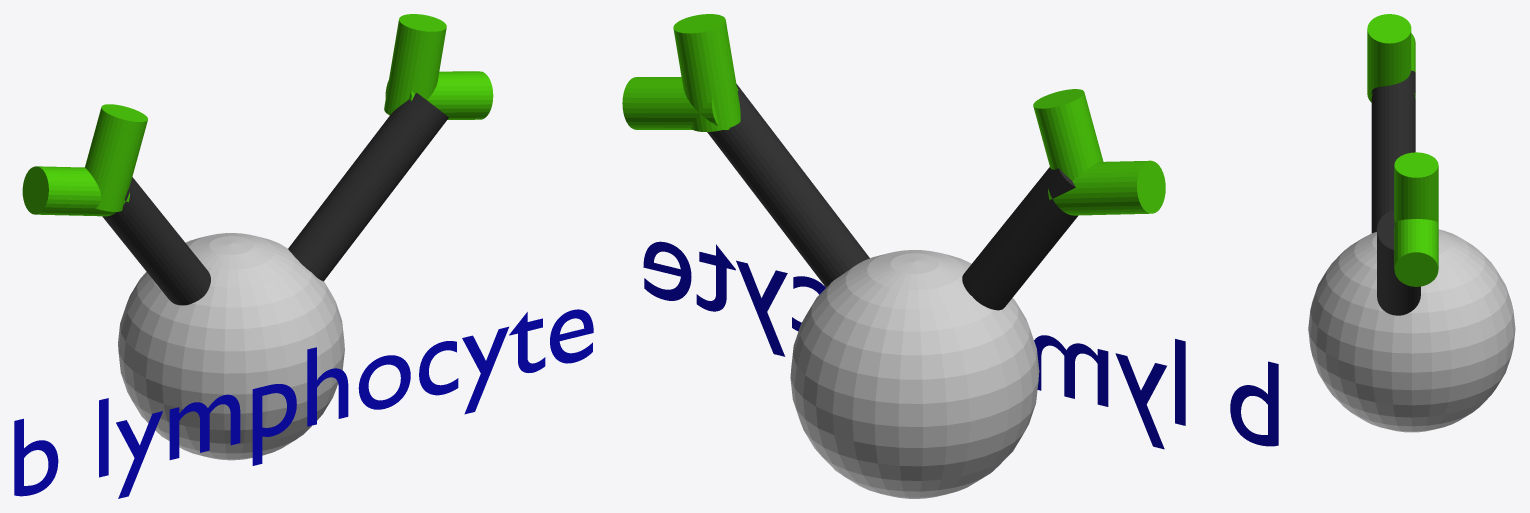
Rendered from blymph.obj.
3 views of the same model, side by side, from view 1: azimuth 30°, elevation 25°; view 2: azimuth 150°, elevation 25°; view 3: azimuth 270°, elevation 25° (orthographic). The views are drawn at different scales.
Parts seen in each view (by area): view 1: Sphere_Sphere.001, Text, Cylinder.001_Cylinder.002, Cylinder_Cylinder.001, Cylinder.003_Cylinder.004, Cylinder.005_Cylinder.006, Cylinder.002_Cylinder.003, Cylinder.004_Cylinder.005; view 2: Sphere_Sphere.001, Text, Cylinder.001_Cylinder.002, Cylinder_Cylinder.001, Cylinder.005_Cylinder.006, Cylinder.002_Cylinder.003, Cylinder.003_Cylinder.004, Cylinder.004_Cylinder.005; view 3: Sphere_Sphere.001, Cylinder_Cylinder.001, Cylinder.003_Cylinder.004, Cylinder.005_Cylinder.006, Cylinder.004_Cylinder.005, Cylinder.001_Cylinder.002.
Boxes of the visible parts, x1,y1,x2,y2 form: Sphere_Sphere.001: (118, 233, 344, 460); Text: (14, 309, 593, 498); Cylinder.001_Cylinder.002: (288, 93, 448, 281); Cylinder_Cylinder.001: (102, 177, 210, 305); Cylinder.003_Cylinder.004: (85, 104, 147, 211); Cylinder.005_Cylinder.006: (384, 14, 446, 115); Cylinder.002_Cylinder.003: (22, 166, 129, 216); Cylinder.004_Cylinder.005: (385, 71, 493, 119); Sphere_Sphere.001: (790, 250, 1039, 498); Text: (643, 241, 1278, 449); Cylinder.001_Cylinder.002: (707, 84, 869, 287); Cylinder_Cylinder.001: (962, 167, 1078, 310); Cylinder.005_Cylinder.006: (673, 14, 740, 131); Cylinder.002_Cylinder.003: (1048, 160, 1165, 215); Cylinder.003_Cylinder.004: (1033, 89, 1103, 180); Cylinder.004_Cylinder.005: (622, 77, 738, 129); Sphere_Sphere.001: (1308, 229, 1515, 432); Cylinder_Cylinder.001: (1371, 70, 1415, 233); Cylinder.003_Cylinder.004: (1367, 14, 1411, 102); Cylinder.005_Cylinder.006: (1394, 152, 1438, 222); Cylinder.004_Cylinder.005: (1394, 219, 1438, 286); Cylinder.001_Cylinder.002: (1377, 210, 1420, 315).
Bounding box in the file's own units: 1.38 × 0.8701 × 0.4721.
